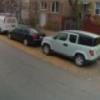cars: (39, 28, 100, 66), (12, 28, 45, 45)
